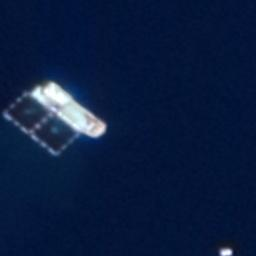square_solid: (1, 87, 60, 141), (28, 110, 86, 161)
